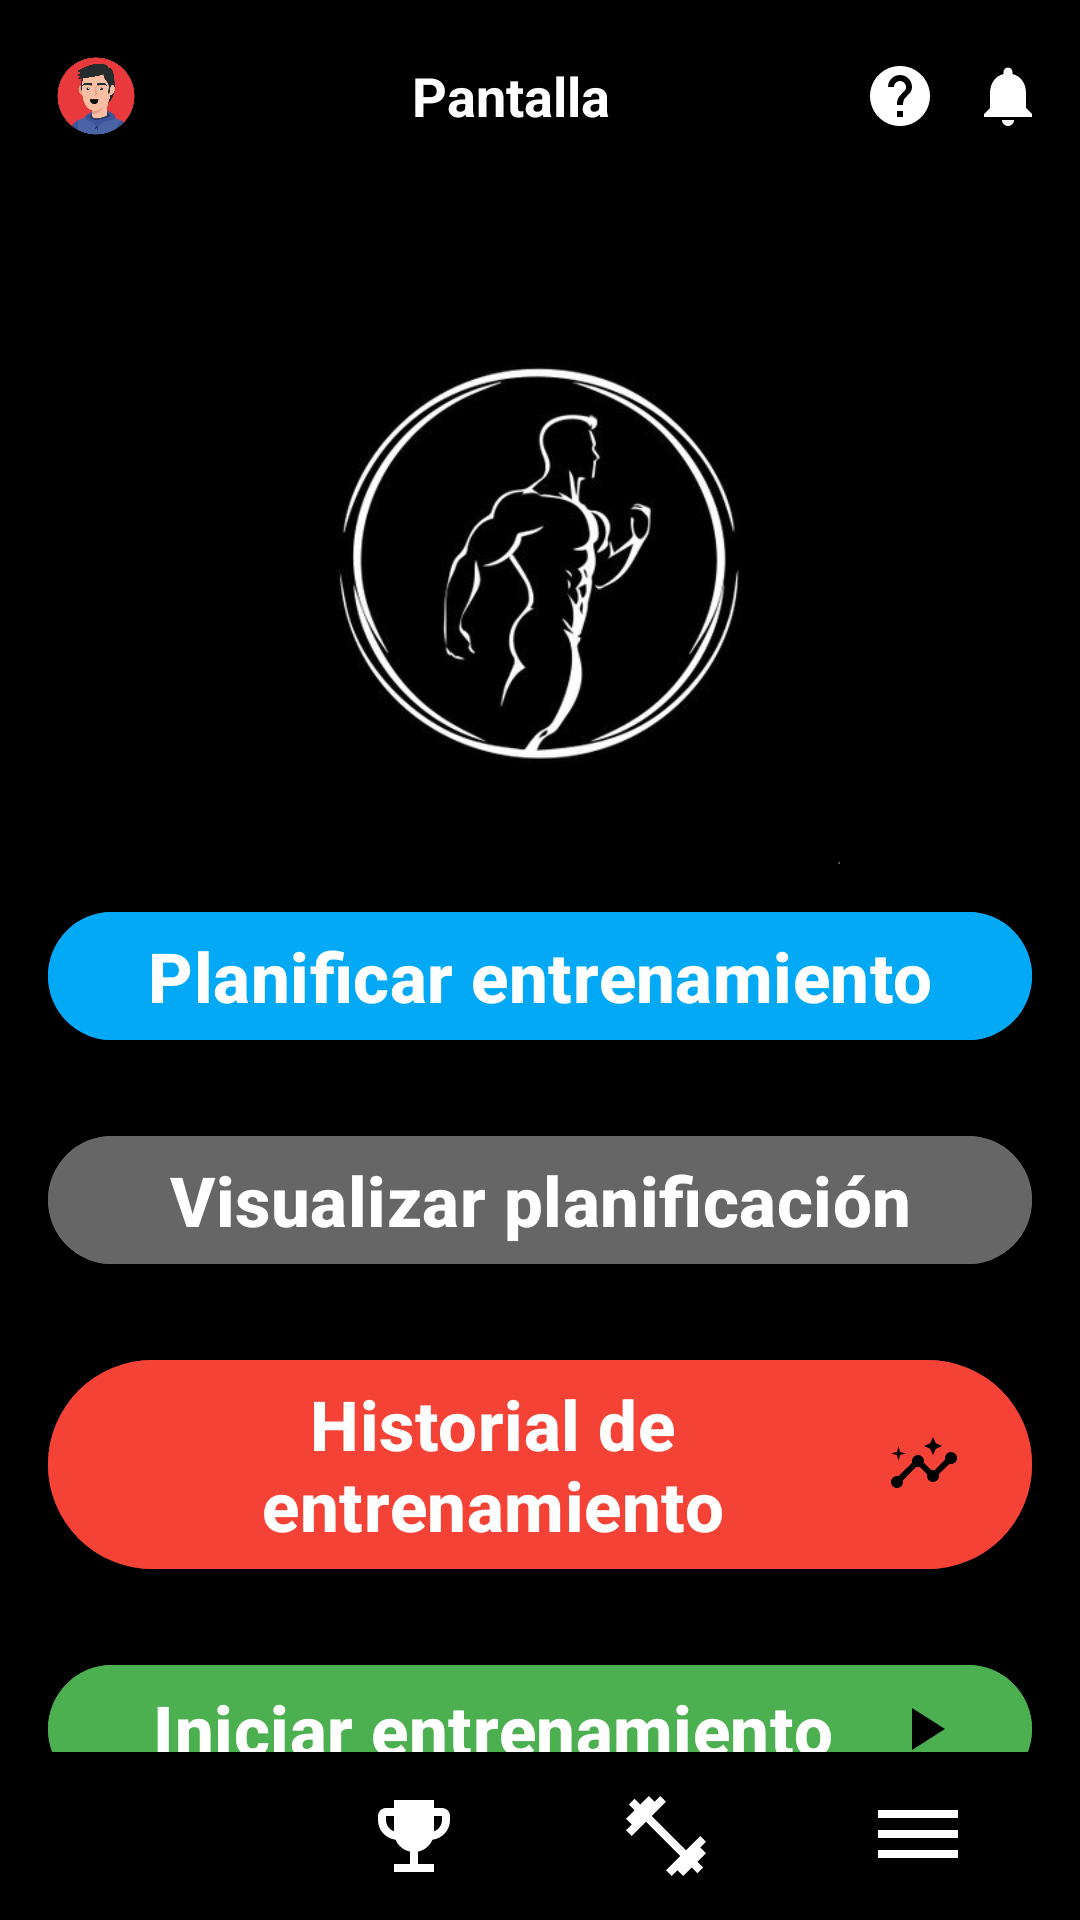

Screen size 1080px×1920px. Icon name, then its center in pixels as (x,y):
Ayuda: (900,96)
Icono de entrenamiento: (666,1836)
Icono de logros: (414,1836)
Icono del menú: (918,1834)
Notificaciones: (1008,96)
